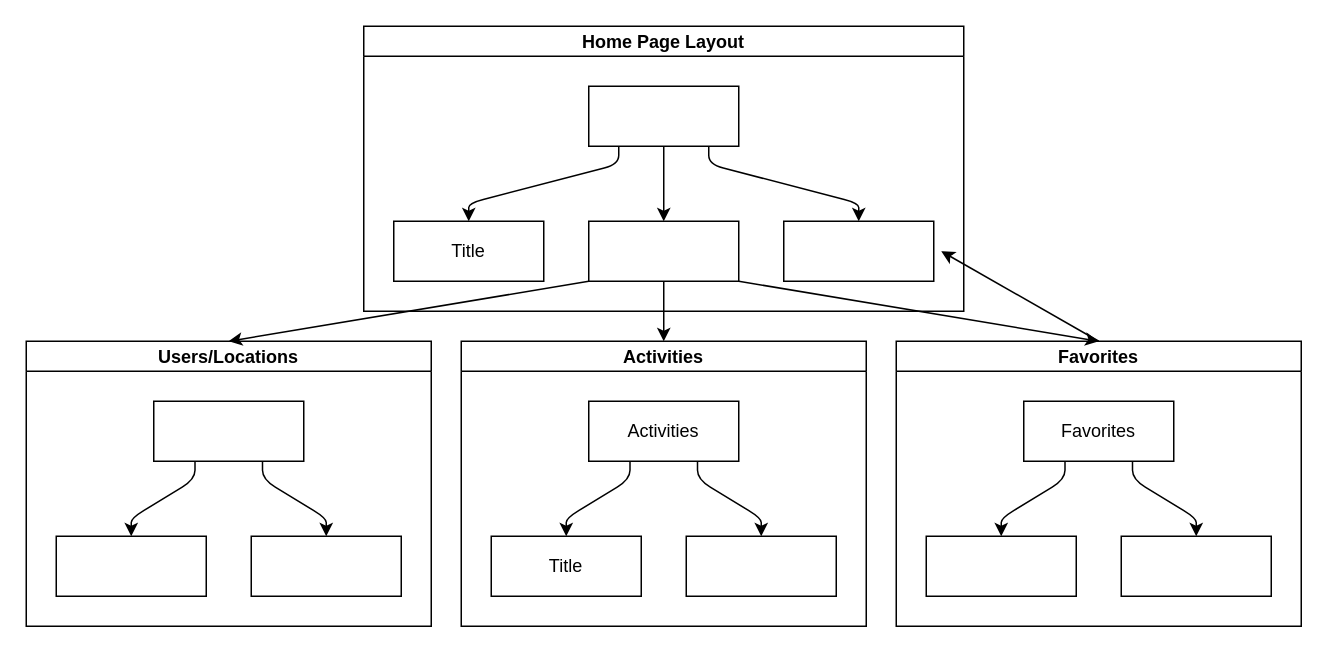
The diagram is 1328 pixels wide and 653 high, and some of its shapes have lost their labels. The shapes that lost their labels are listed below. From the top down, each one's centre as x and y in pixels, then its label:
point 663,115: Home page
point 663,250: Nav Bar
point 858,250: Image Link
point 228,430: Users / Locations
